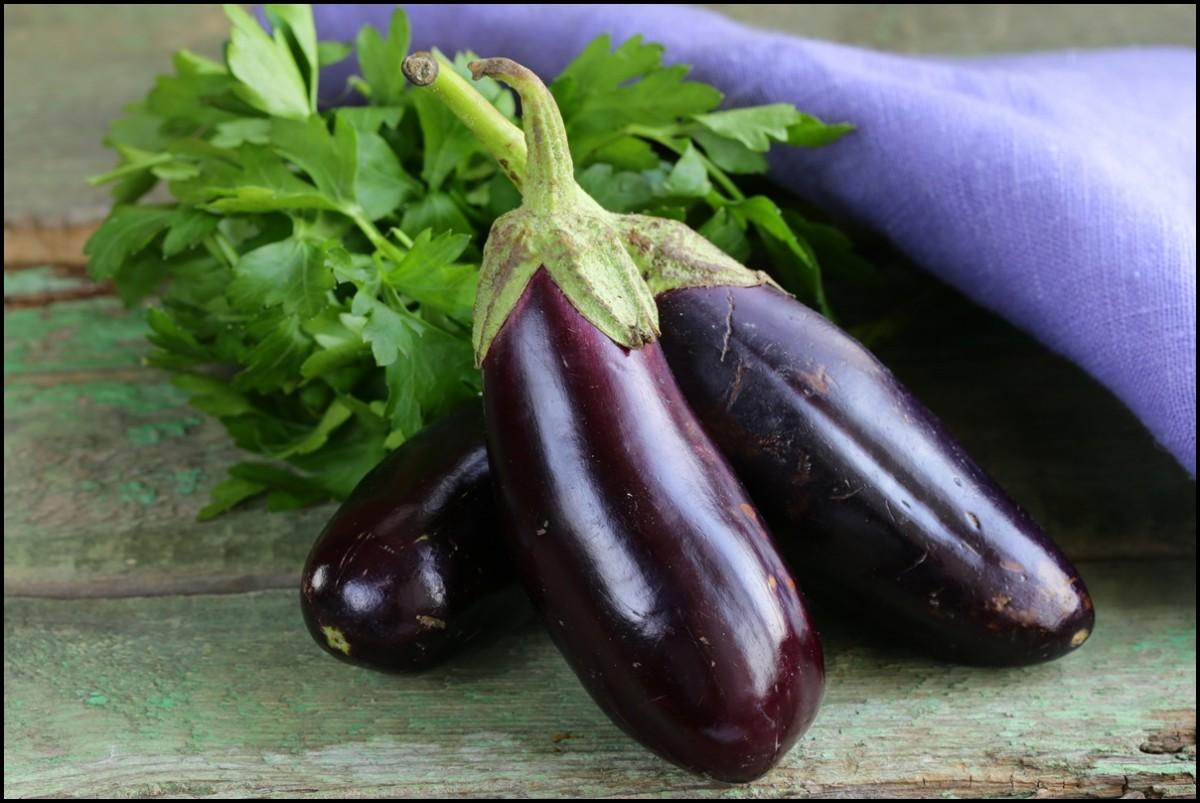eggplant: (399, 51, 828, 786), (613, 210, 1096, 670), (298, 397, 523, 678)
